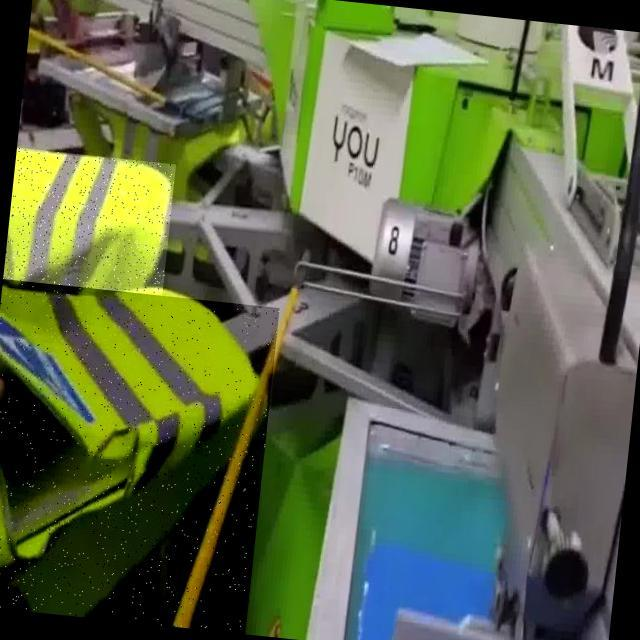Safety Vest: (0, 278, 279, 633), (2, 148, 176, 306)
